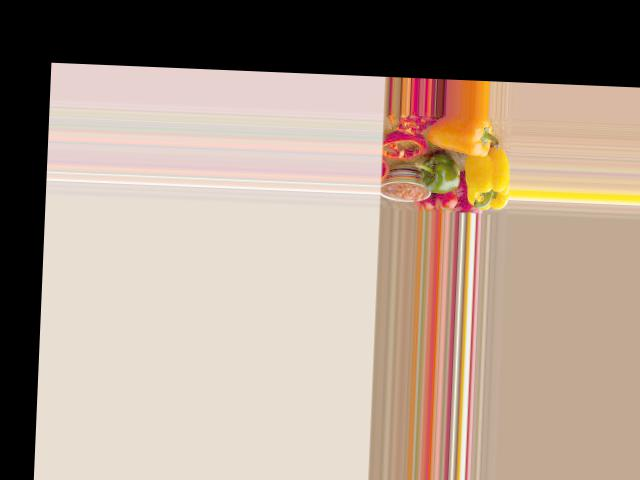bell_pepper: (462, 157, 510, 209)
